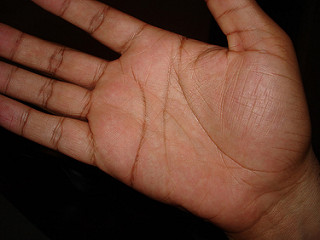palm: (99, 32, 280, 205)
